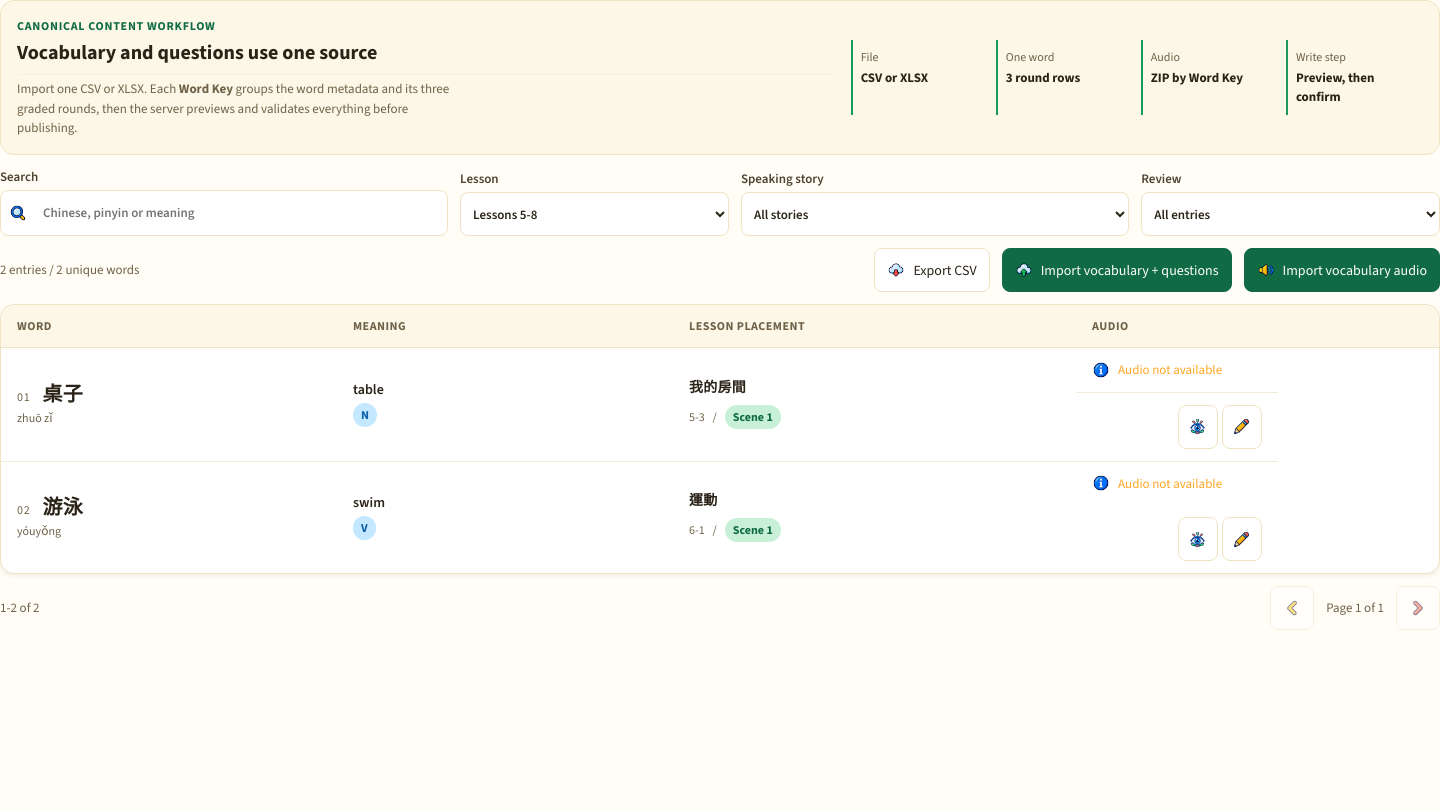
Test: Admin vocabulary page › saves metadata with the exact source precondition then updates the table
Click the button named "Edit 桌子": [1242, 426] box [1222,404,1262,448]
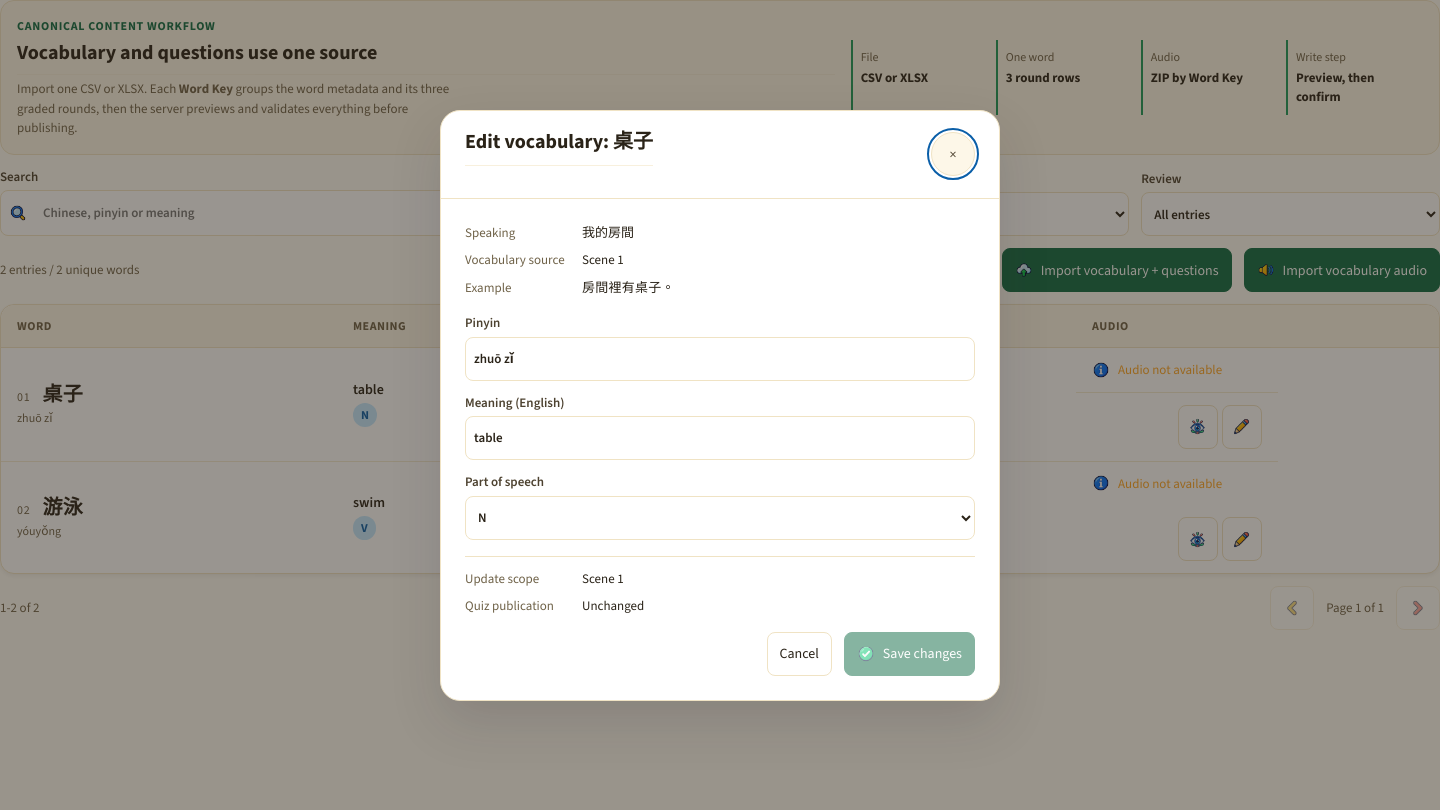
Replace the text in the field labelled "Pinyin" with "zhuō zi": [720, 358] box [465,336,975,380]
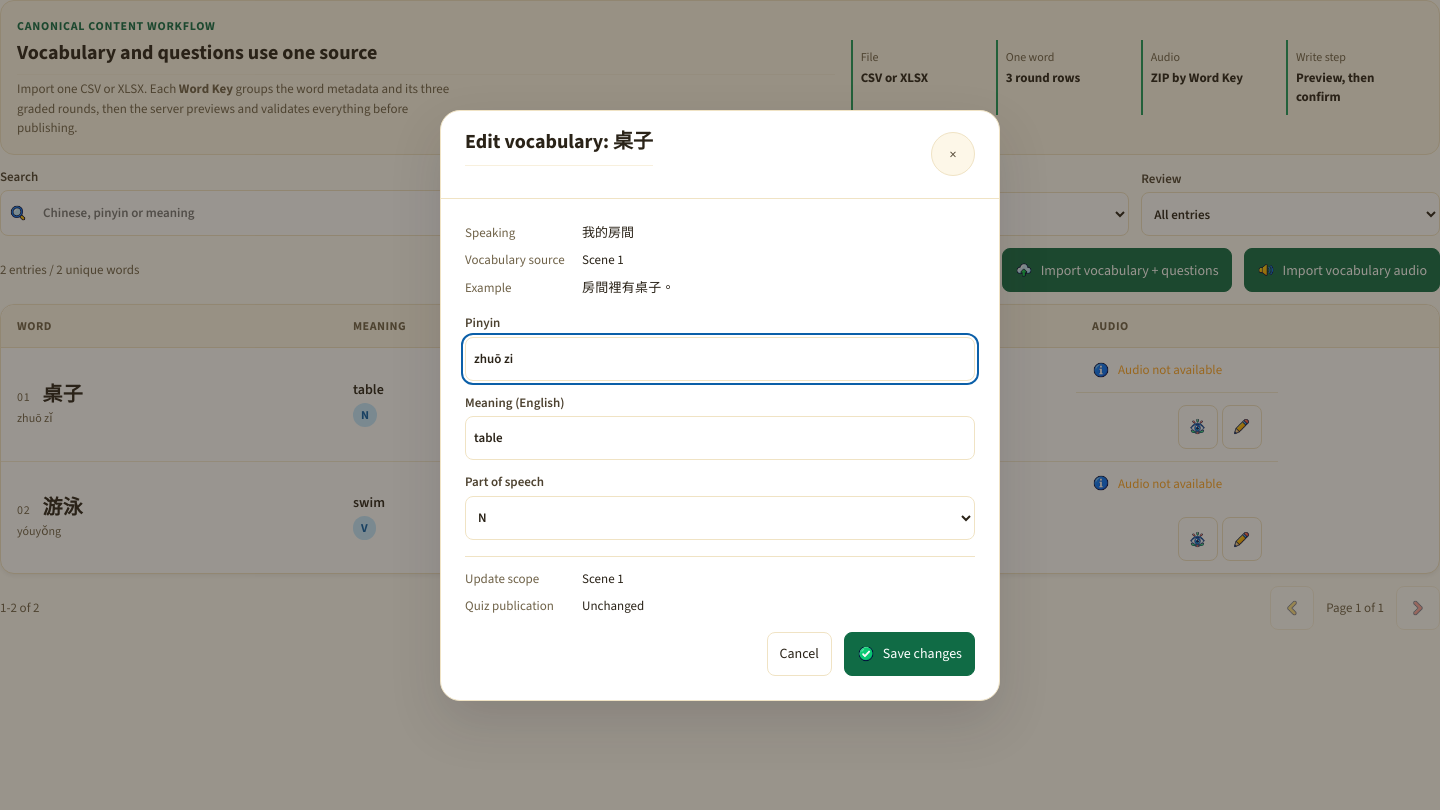
Click the button "Save changes": [909, 654] box [844,632,975,676]
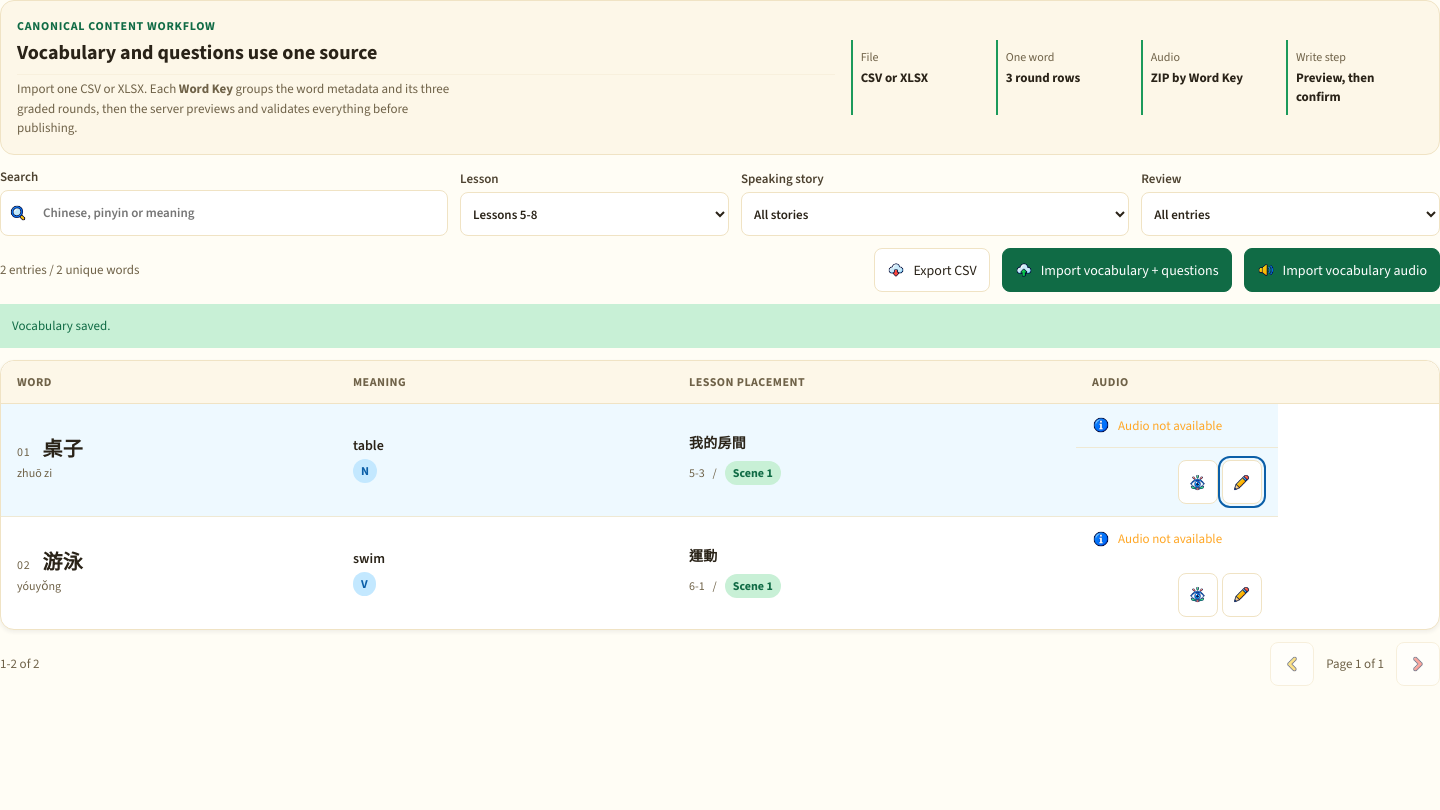
Check: the text "Vocabulary saved." is shown, box [0,304,1439,348]
Check: the dialog is gone
Check: the text "zhuō zi" is shown, box [17,465,52,481]
